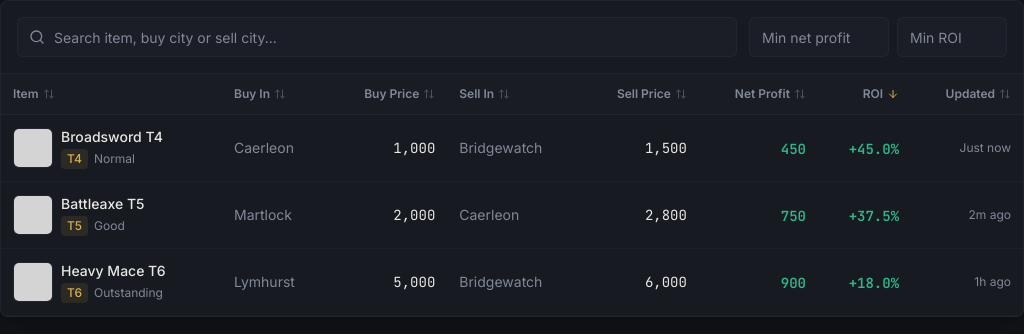
ArbitrageTable › deve filtrar por ROI minimo
In the number field with placeholder "Min ROI": (952, 37) [897,17,1007,57], type "30"
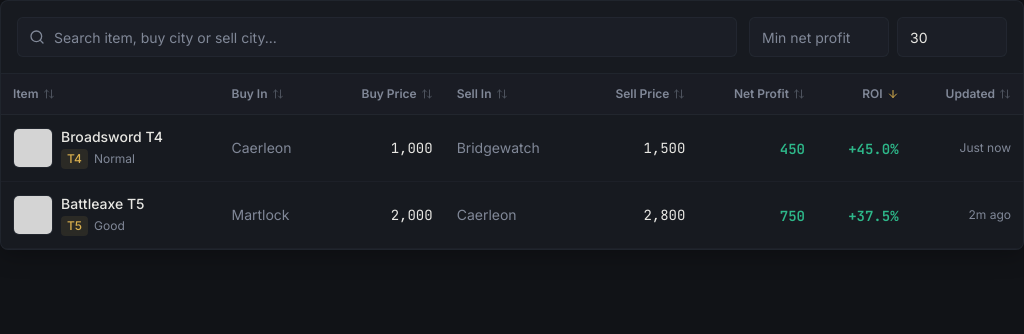
Expected: the text "Broadsword T4" is shown, [61,127,163,147]
Now the text "Heavy Mace T6" is gone
